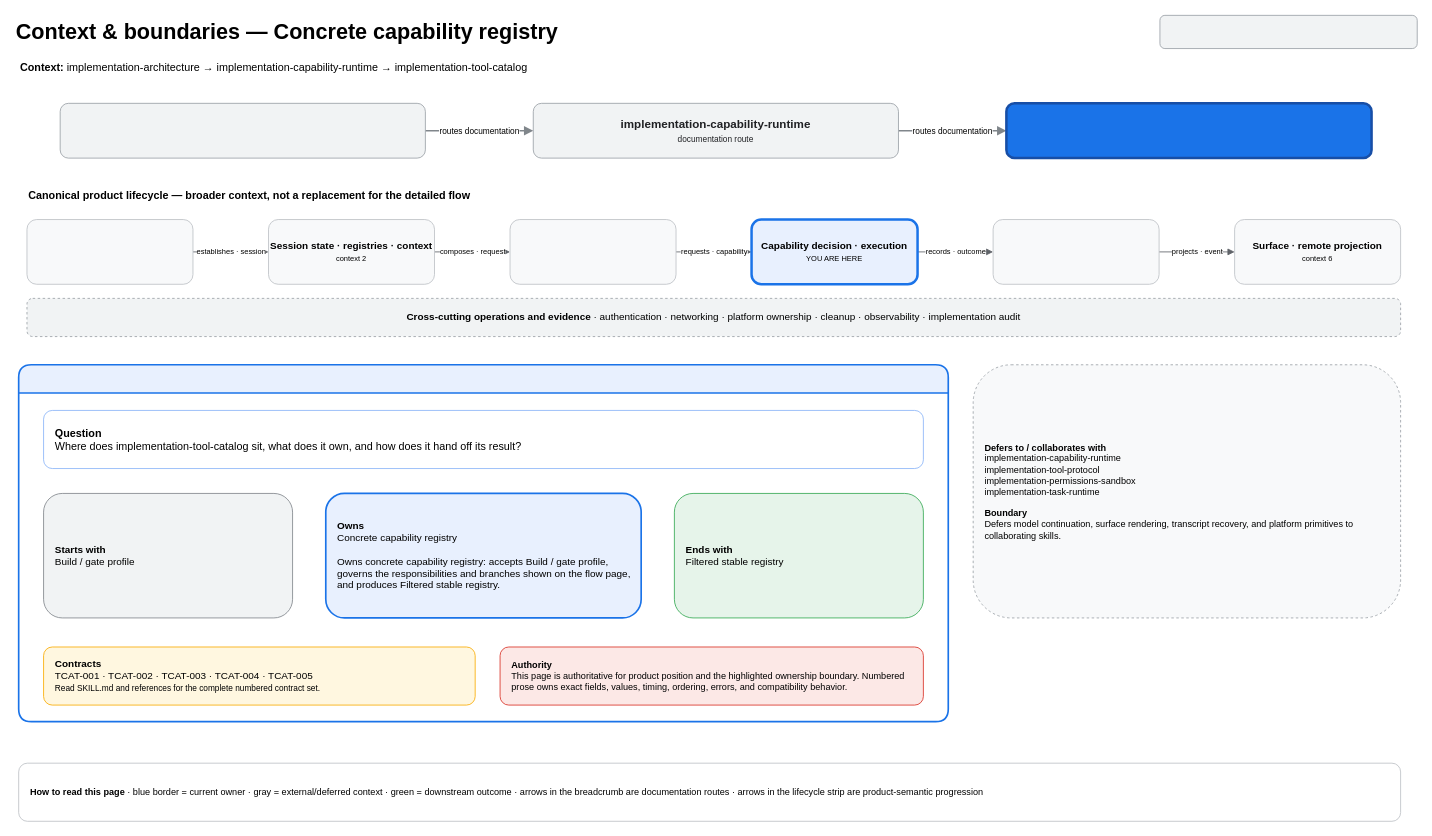
Image size: 1432x836. Some labels were removed from this diagram. Here are the shapes that lost their labels. From the top down, the box of each, then its label:
(1159, 15, 1417, 49): architecture overview · template 2.0-context-flow
(59, 103, 425, 158): implementation-architecture documentation route
(1005, 102, 1372, 159): implementation-tool-catalog YOU ARE HERE
(26, 219, 193, 284): Entrypoint · identity · policy context 1
(509, 219, 676, 284): Query engine · model stream context 3
(992, 219, 1159, 284): Transcript · tasks · continuity context 5
(17, 364, 949, 722): CURRENT OWNERSHIP BOUNDARY
